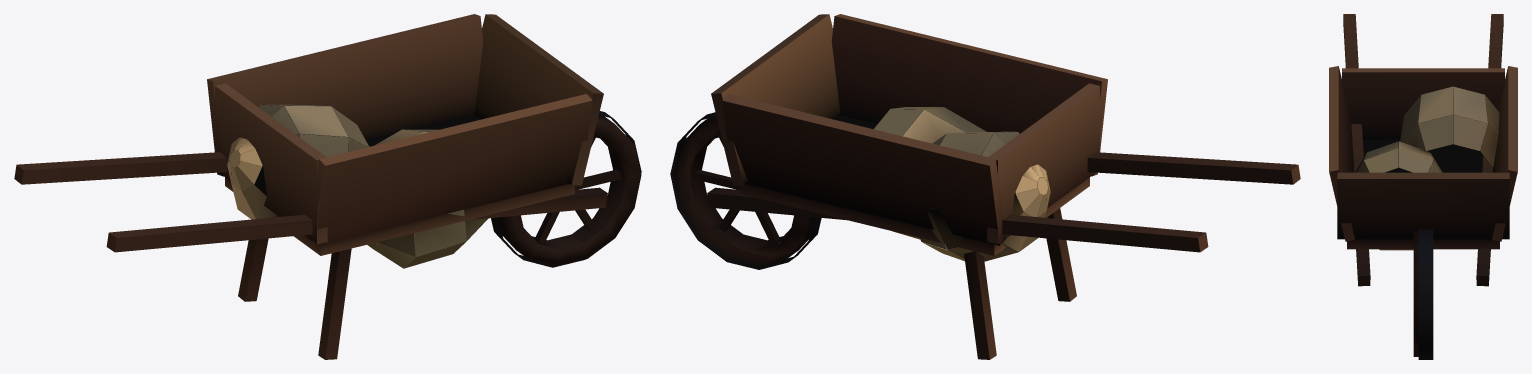
The model's file is carretilla.glb.
The picture shows the model from 3 angles, left to right: view 1: azimuth 30°, elevation 25°; view 2: azimuth 150°, elevation 25°; view 3: azimuth 270°, elevation 25°; orthographic projection. The views are drawn at different scales.
Visible parts, largest first — view 1: carretilla_piezas; view 2: carretilla_piezas; view 3: carretilla_piezas.
Boxes of the visible parts, x1,y1,x2,y2 form: carretilla_piezas: (14,14,641,359); carretilla_piezas: (670,14,1300,359); carretilla_piezas: (1329,14,1517,359).
Bounding box in the file's own units: 2.15 × 0.7658 × 0.7657.
